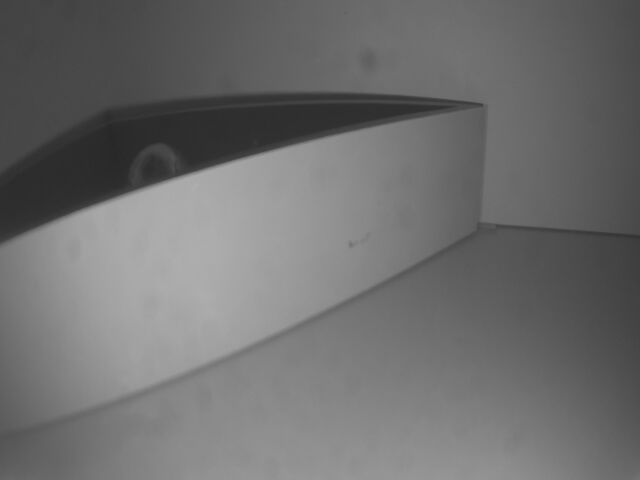Red: (0, 107, 487, 435)
